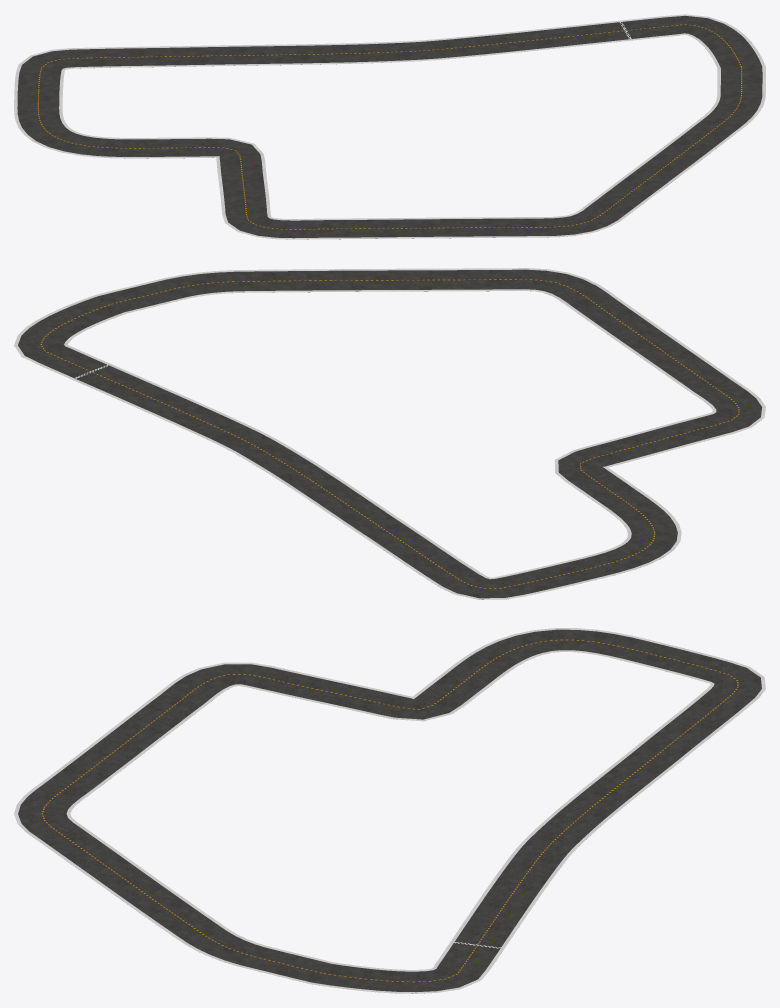
The model's file is 2022_september_open.dae.
3 renders of one model, top to bottom at view 1: azimuth 30°, elevation 25°; view 2: azimuth 150°, elevation 25°; view 3: azimuth 270°, elevation 25°, orthographic. The views are drawn at different scales.
Parts seen in each view (by area): view 1: road, il, ol, cl; view 2: road, il, ol, cl; view 3: road, il, ol, cl.
Part boxes in pixels (<box>): road: <box>17,15,762,239</box>; il: <box>14,14,765,239</box>; ol: <box>59,33,720,220</box>; cl: <box>37,24,742,229</box>; road: <box>18,269,761,599</box>; il: <box>14,268,765,599</box>; ol: <box>64,289,716,579</box>; cl: <box>40,279,739,588</box>; road: <box>18,629,761,993</box>; il: <box>14,628,765,993</box>; ol: <box>66,650,714,971</box>; cl: <box>41,639,738,982</box>.
Size of what is drawn, in the model's own units: 16.32 by 14.18 by 0.0015.
Materials: 5 (5 with a texture image).
